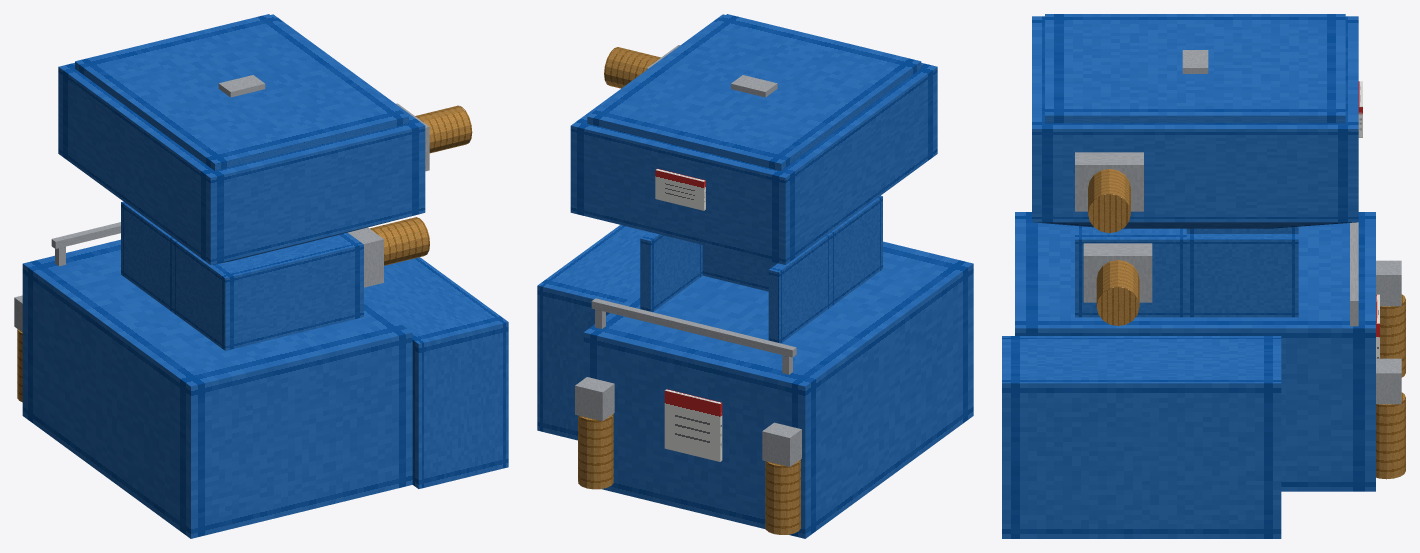
Rendered from seed_processor.obj.
3 views of the same model, side by side, from view 1: azimuth 30°, elevation 25°; view 2: azimuth 150°, elevation 25°; view 3: azimuth 270°, elevation 25° (orthographic). The views are drawn at different scales.
Visible parts, largest first — view 1: seed_processor; view 2: seed_processor; view 3: seed_processor.
Boxes of the visible parts, x1,y1,x2,y2 form: seed_processor: (14,14,508,538); seed_processor: (537,14,973,538); seed_processor: (1002,14,1405,538).
Size of the model in its own units: 0.91 by 0.995 by 0.94.
